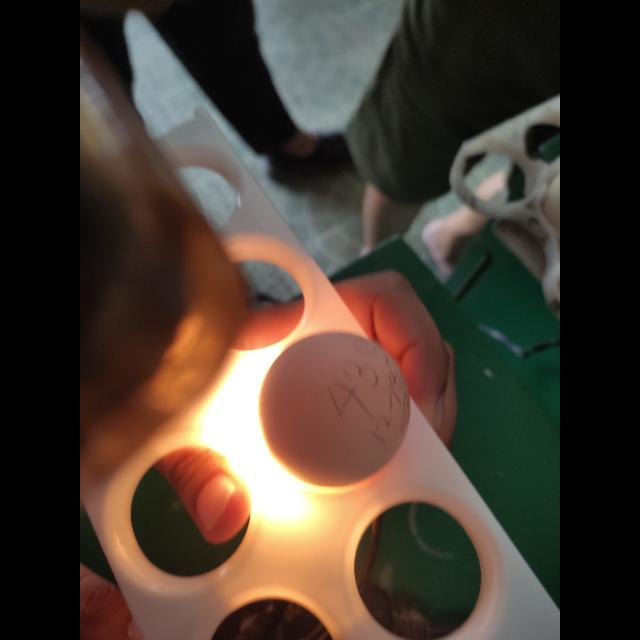Fertile: (258, 326, 416, 488)
